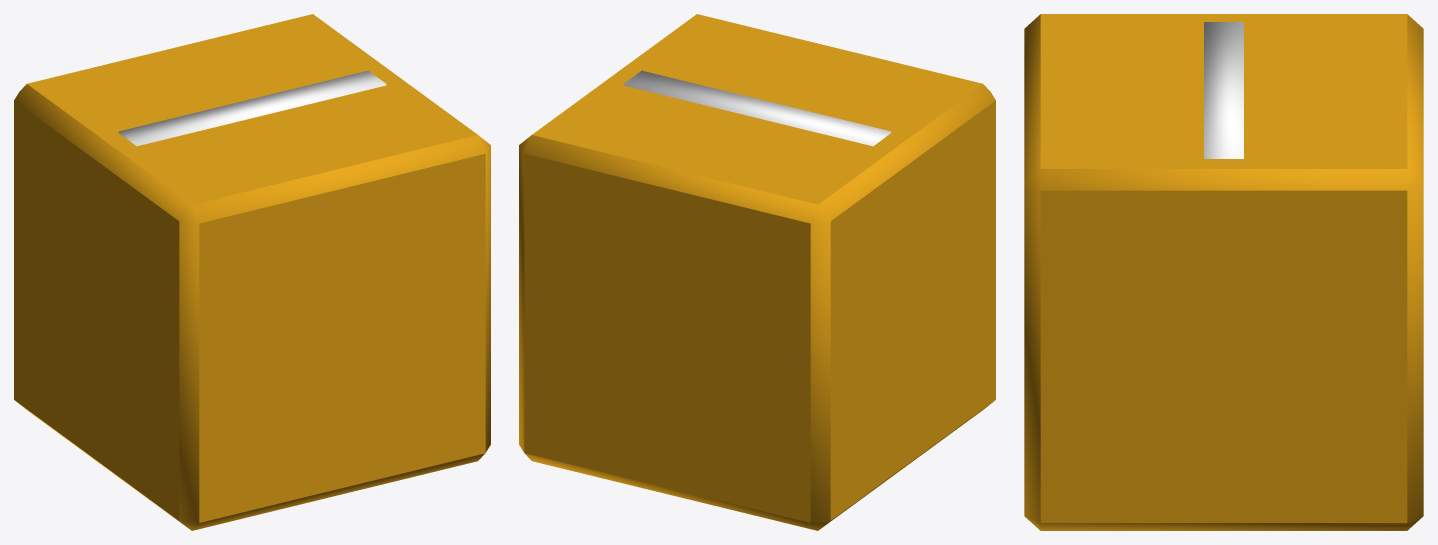
Rendered from Cube_Double.fbx.
The picture shows the model from 3 angles, left to right: view 1: azimuth 30°, elevation 25°; view 2: azimuth 150°, elevation 25°; view 3: azimuth 270°, elevation 25°; orthographic projection. The views are drawn at different scales.
Parts seen in each view (by area): view 1: Cube.001, Cube.003; view 2: Cube.001, Cube.003; view 3: Cube.001, Cube.003.
Boxes of the visible parts, left/top/right/bottom form: Cube.001: left=14, top=14, right=490, bottom=530; Cube.003: left=118, top=70, right=386, bottom=146; Cube.001: left=519, top=14, right=995, bottom=530; Cube.003: left=623, top=70, right=891, bottom=146; Cube.001: left=1024, top=14, right=1423, bottom=530; Cube.003: left=1204, top=22, right=1243, bottom=158.
Bounding box in the file's own units: 100 × 101 × 100.
